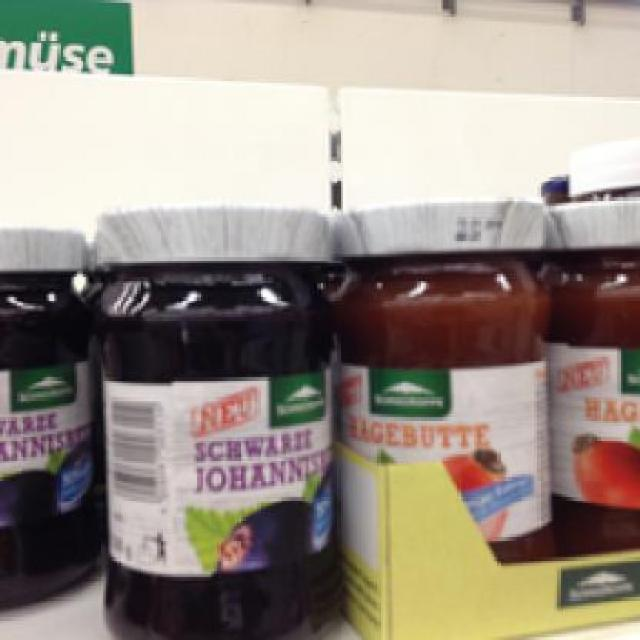Jam: (88, 202, 344, 638), (332, 197, 554, 563), (0, 224, 95, 612), (542, 195, 638, 554)
